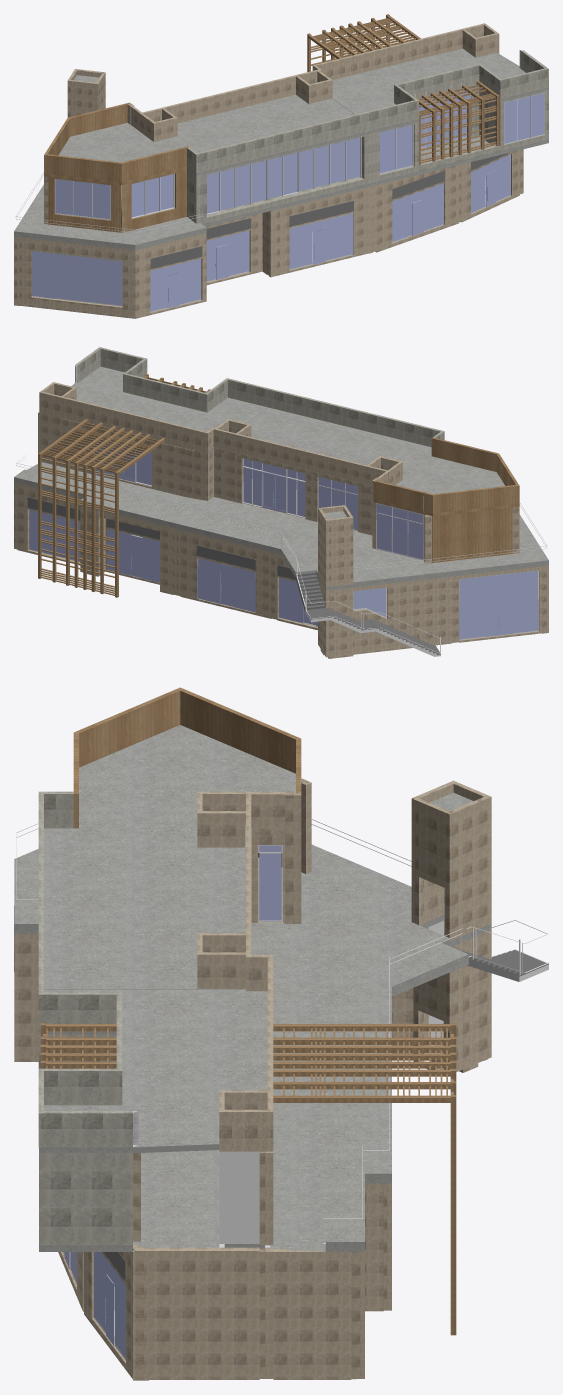
3 views of the same model, one above another, from view 1: azimuth 30°, elevation 25°; view 2: azimuth 150°, elevation 25°; view 3: azimuth 270°, elevation 25° (orthographic). The views are drawn at different scales.
Parts seen in each view (by area): view 1: S.SLAB-2 S.SLAB-2 [363837].004, Canopy1 Canopy-1 [914335].001, S.SLAB-2 S.SLAB-2 [363837].003, Basic Wall WALL -20CM [2090091].001, Basic Wall WALL -30CM [2014201].001, Floor FLOOR-1 [900120].001, Basic Wall WALL -30CM [2005281].001, Basic Wall WALL -20CM [1929241].001, Basic Wall WALL -50CM [2078251].001, Basic Wall WALL -20CM [2089979].001, S.SLAB-1 S.SLAB-1 [1801362].001, Basic Wall WALL -30CM [2014126].001 (+66 smaller); view 2: Floor FLOOR-1 [900120].001, Canopy1 Canopy-1 [914335].001, S.SLAB-2 S.SLAB-2 [363837].004, Basic Wall WALL -30CM [2014766].001, S.SLAB-2 S.SLAB-2 [363837].003, Basic Wall WALL -20CM [2090091].001, Basic Wall WALL -30CM [2047299].001, Basic Wall WALL -20CM [1929241].001, Basic Wall WALL -30CM [2004427].001, Basic Wall WALL -20CM [2089979].001, S.SLAB-1 S.SLAB-1 [1801362].001, Basic Wall WALL -30CM [2050310].001 (+54 smaller); view 3: S.SLAB-2 S.SLAB-2 [363837].004, Floor FLOOR-1 [900120].001, S.SLAB-2 S.SLAB-2 [363837].003, Canopy1 Canopy-1 [914335].001, Basic Wall WALL -30CM [2003312].001, S.SLAB-1 S.SLAB-1 [1801362].001, Basic Wall WALL -30CM [2003218].001, Basic Wall WALL -30CM [2043541].001, Basic Wall WALL -20CM [2092181].001, Basic Wall WALL -20CM [2091984].001, Basic Wall WALL -20CM [2044515].001, Basic Wall WALL -20CM [2090594].001 (+38 smaller).
Part boxes in pixels (box(x1,y1,x2,y2)): S.SLAB-2 S.SLAB-2 [363837].004: box(44, 95, 375, 185); Canopy1 Canopy-1 [914335].001: box(307, 14, 499, 165); S.SLAB-2 S.SLAB-2 [363837].003: box(332, 49, 548, 132); Basic Wall WALL -20CM [2090091].001: box(195, 99, 418, 172); Basic Wall WALL -30CM [2014201].001: box(19, 237, 129, 318); Floor FLOOR-1 [900120].001: box(14, 184, 206, 246); Basic Wall WALL -30CM [2005281].001: box(276, 187, 369, 275); Basic Wall WALL -20CM [1929241].001: box(312, 23, 485, 79); Basic Wall WALL -50CM [2078251].001: box(192, 134, 371, 223); Basic Wall WALL -20CM [2089979].001: box(139, 69, 322, 132); S.SLAB-1 S.SLAB-1 [1801362].001: box(14, 137, 548, 250); Basic Wall WALL -30CM [2014126].001: box(129, 233, 206, 318); Floor FLOOR-1 [900120].001: box(14, 469, 548, 583); Canopy1 Canopy-1 [914335].001: box(38, 374, 210, 597); S.SLAB-2 S.SLAB-2 [363837].004: box(214, 407, 519, 516); Basic Wall WALL -30CM [2014766].001: box(353, 576, 451, 654); S.SLAB-2 S.SLAB-2 [363837].003: box(71, 366, 267, 453); Basic Wall WALL -20CM [2090091].001: box(226, 378, 444, 447); Basic Wall WALL -30CM [2047299].001: box(432, 507, 512, 562); Basic Wall WALL -20CM [1929241].001: box(39, 391, 209, 453); Basic Wall WALL -30CM [2004427].001: box(180, 530, 271, 618); Basic Wall WALL -20CM [2089979].001: box(211, 427, 390, 485); S.SLAB-1 S.SLAB-1 [1801362].001: box(14, 452, 548, 590); Basic Wall WALL -30CM [2050310].001: box(62, 419, 185, 496); S.SLAB-2 S.SLAB-2 [363837].004: box(44, 725, 295, 989); Floor FLOOR-1 [900120].001: box(14, 844, 468, 1245); S.SLAB-2 S.SLAB-2 [363837].003: box(38, 989, 267, 1153); Canopy1 Canopy-1 [914335].001: box(40, 1023, 456, 1335); Basic Wall WALL -30CM [2003312].001: box(132, 1247, 259, 1379); S.SLAB-1 S.SLAB-1 [1801362].001: box(14, 857, 491, 1251); Basic Wall WALL -30CM [2003218].001: box(273, 1248, 351, 1379); Basic Wall WALL -30CM [2043541].001: box(39, 1152, 132, 1245); Basic Wall WALL -20CM [2092181].001: box(180, 689, 295, 773); Basic Wall WALL -20CM [2091984].001: box(79, 687, 183, 767); Basic Wall WALL -20CM [2044515].001: box(219, 1151, 259, 1243); Basic Wall WALL -20CM [2090594].001: box(44, 1111, 132, 1147).
Size of the model in its own units: 37.45 by 10.43 by 18.69.
8 materials, 5 textured.
